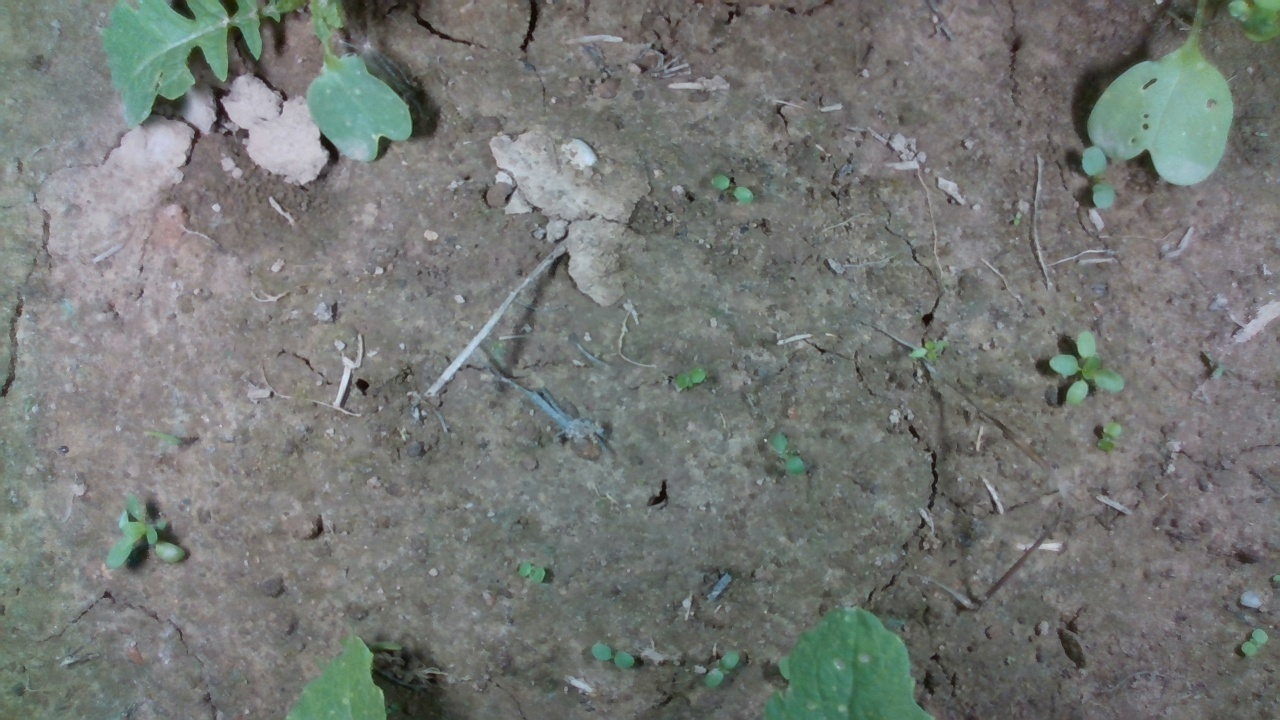weed: (1046, 328, 1127, 408), (766, 428, 806, 476), (702, 648, 740, 690), (709, 172, 755, 206), (589, 642, 635, 670), (1239, 627, 1269, 657), (1095, 420, 1123, 452), (673, 369, 706, 391), (515, 561, 546, 584), (1013, 210, 1021, 226)
